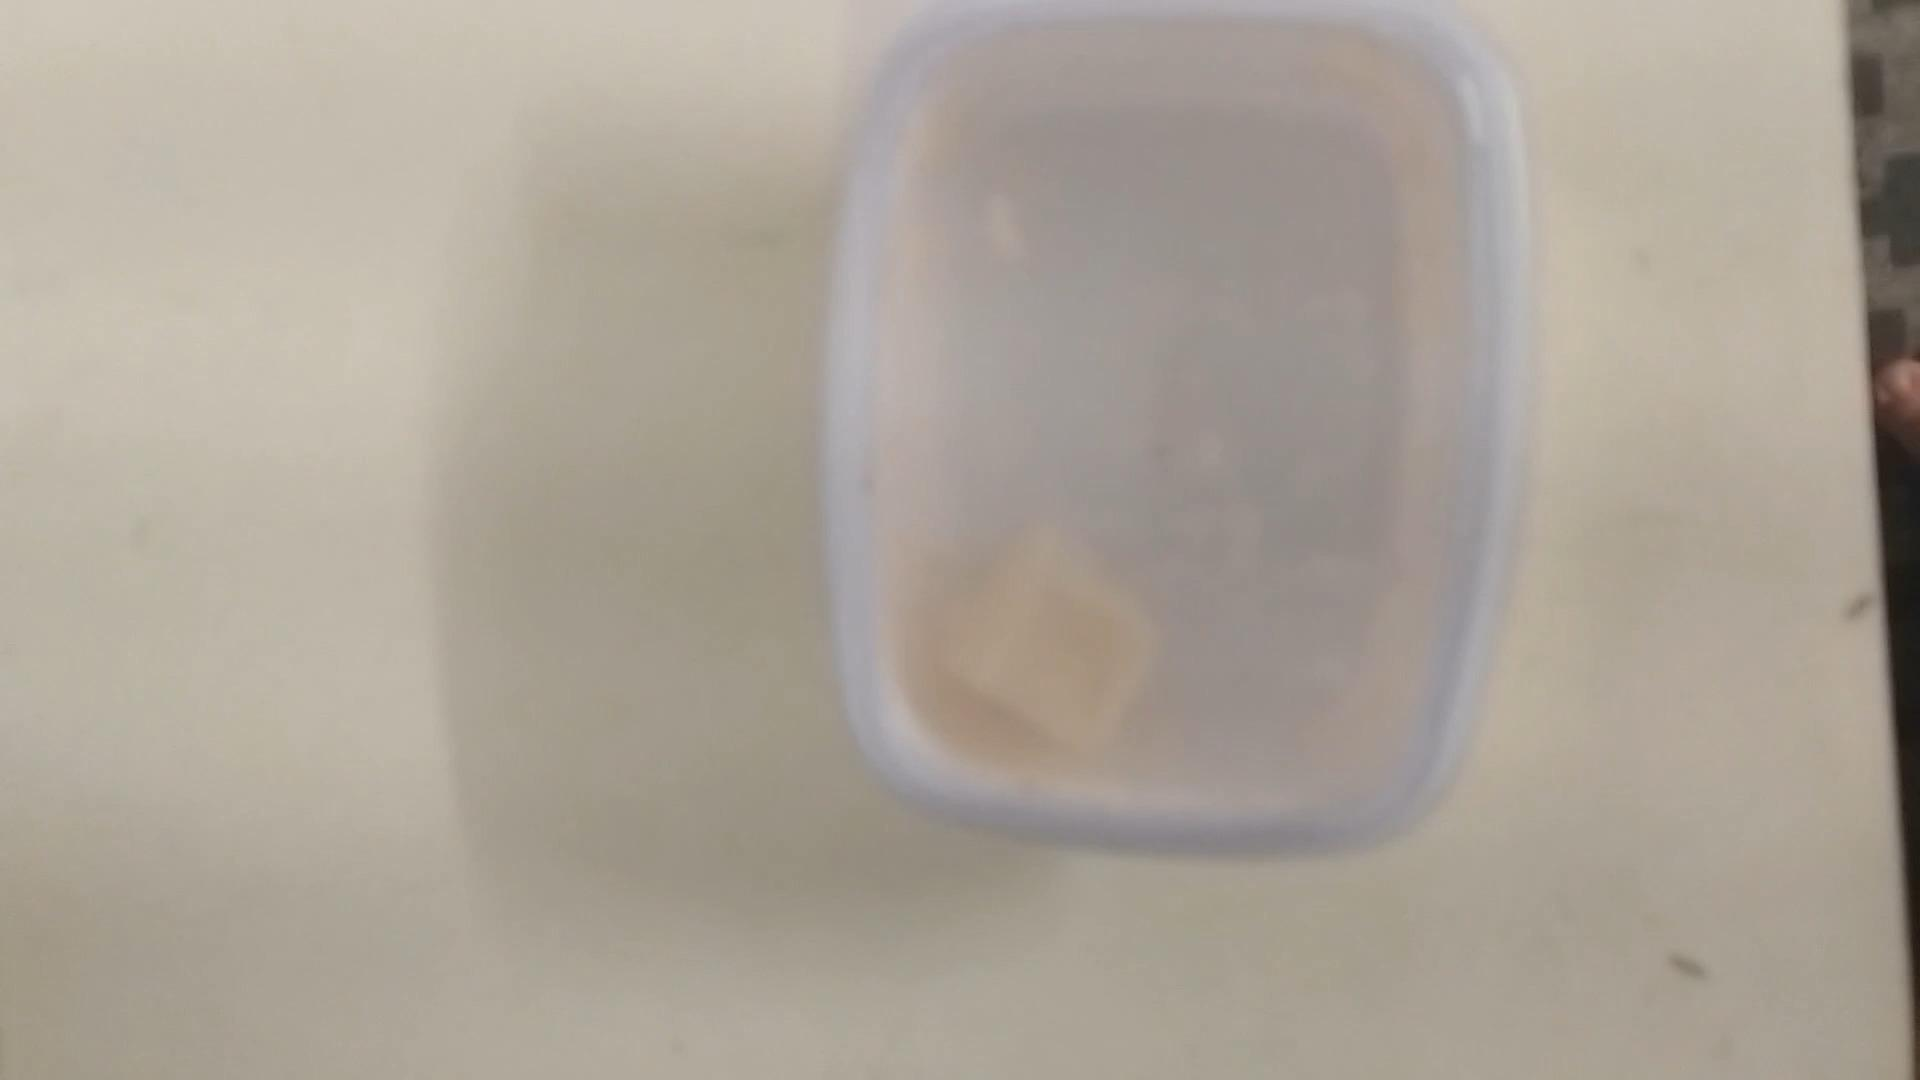butter: (831, 8, 1528, 868)
